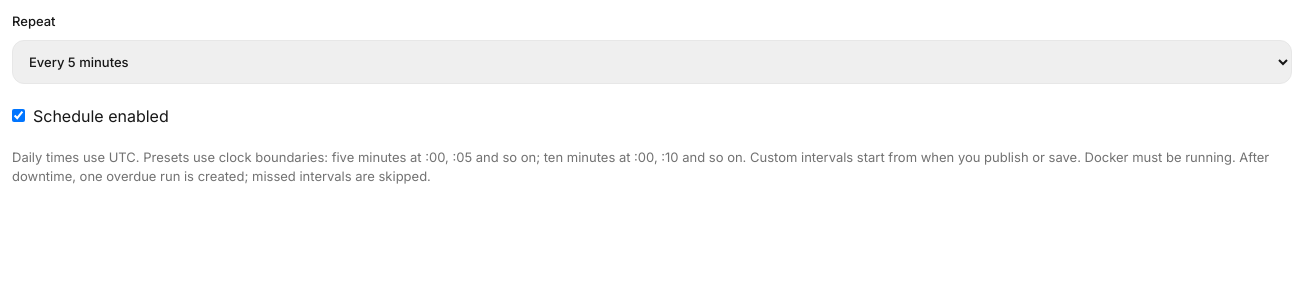
chooses daily UTC time and pauses the schedule
Select "Every day" in the dropdown named "Schedule frequency": (652, 62) [12,40,1292,84]
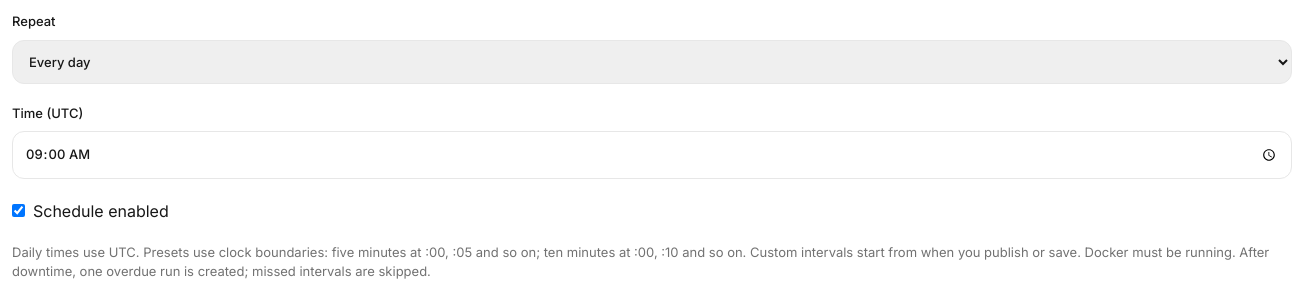
Replace the text in the time field named "Daily time (UTC)" with "17:30": (652, 155) [12,131,1292,178]
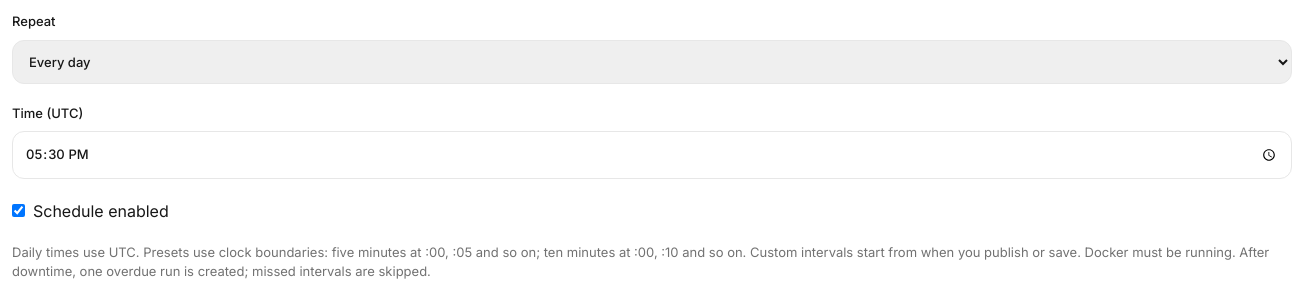
Click the checkbox: (18, 210) [12,204,25,217]
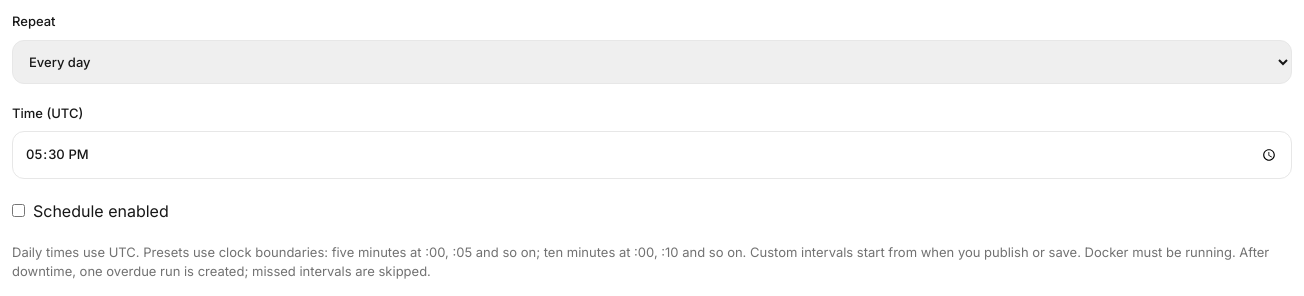
Check: the checkbox is not checked, box [12,204,25,217]
